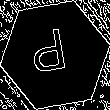P_S: (33, 27, 77, 83)
